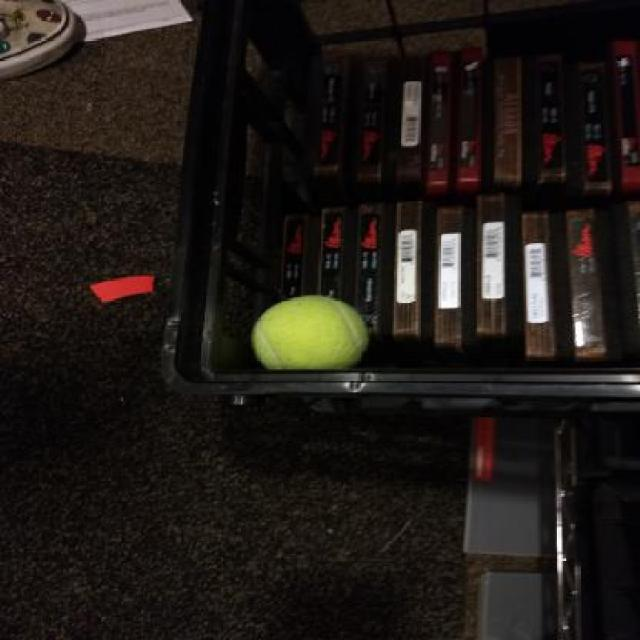Tennis_Ball: (257, 300, 363, 385)
